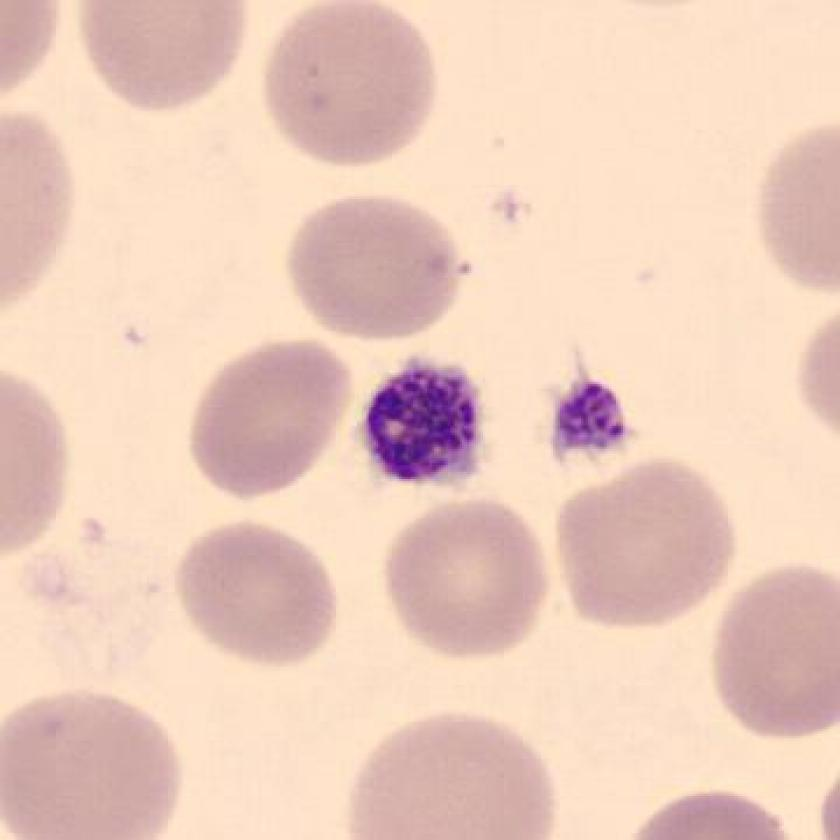platelets: (351, 344, 496, 503), (540, 367, 643, 473)
